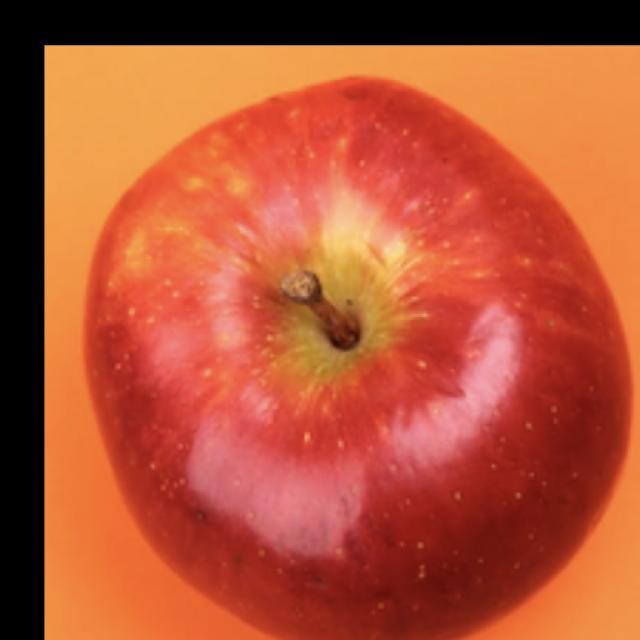Fresh Apple: (110, 83, 597, 622)
